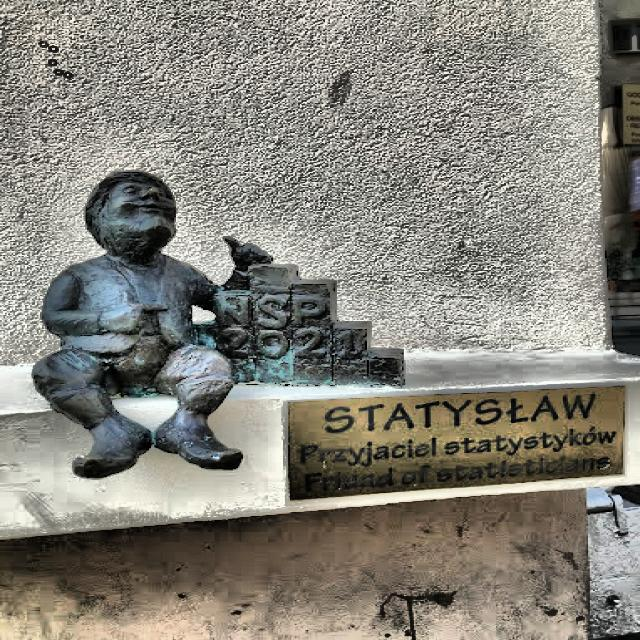Statyslaw: (33, 171, 404, 477)
